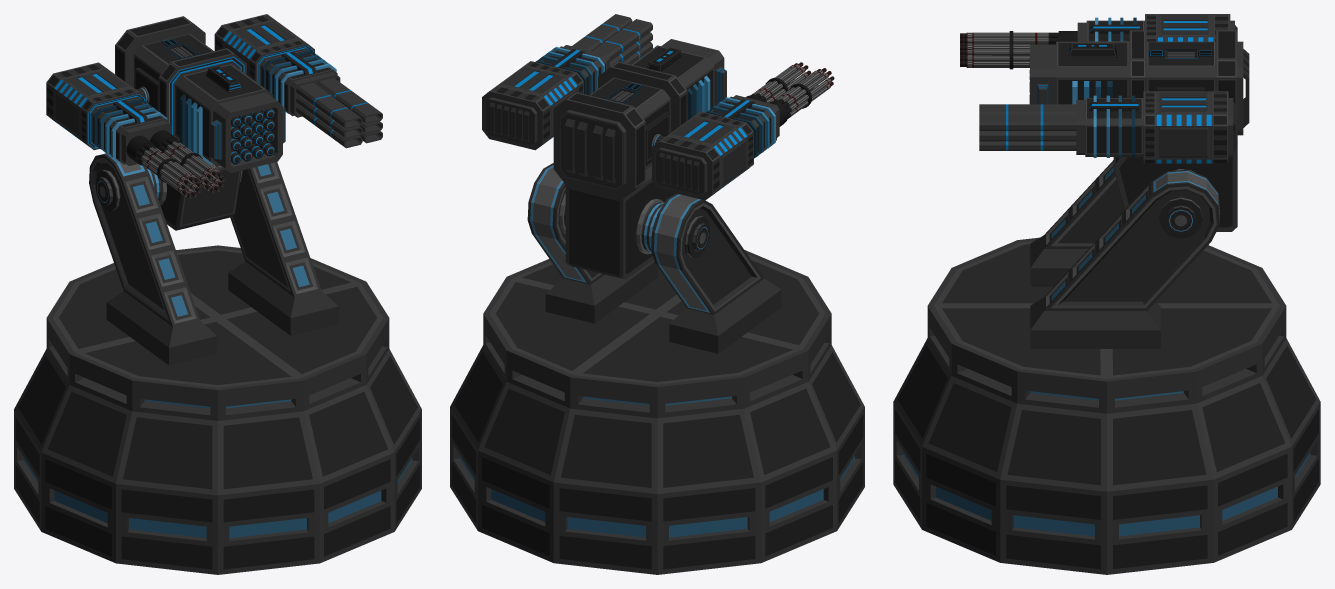
3 views of the same model, side by side, from view 1: azimuth 30°, elevation 25°; view 2: azimuth 150°, elevation 25°; view 3: azimuth 270°, elevation 25° (orthographic). The views are drawn at different scales.
Visible parts, largest first — view 1: PTR002, NTR002, TR003, MGT008, BT006; view 2: PTR002, TR003, NTR002, MGT008, BT006; view 3: PTR002, NTR002, TR003, BT006, MGT008.
Boxes of the visible parts, <box> form: PTR002: <box>14,245,421,574</box>; NTR002: <box>89,153,338,365</box>; TR003: <box>115,16,285,230</box>; MGT008: <box>46,62,225,198</box>; BT006: <box>214,14,382,148</box>; PTR002: <box>450,250,864,574</box>; TR003: <box>553,39,726,279</box>; NTR002: <box>527,163,781,353</box>; MGT008: <box>651,62,834,200</box>; BT006: <box>482,14,652,150</box>; PTR002: <box>893,237,1320,574</box>; NTR002: <box>1030,160,1219,348</box>; TR003: <box>1029,30,1249,231</box>; BT006: <box>979,91,1235,163</box>; MGT008: <box>960,14,1237,69</box>.
Bounding box in the file's own units: 782 × 888 × 782.
